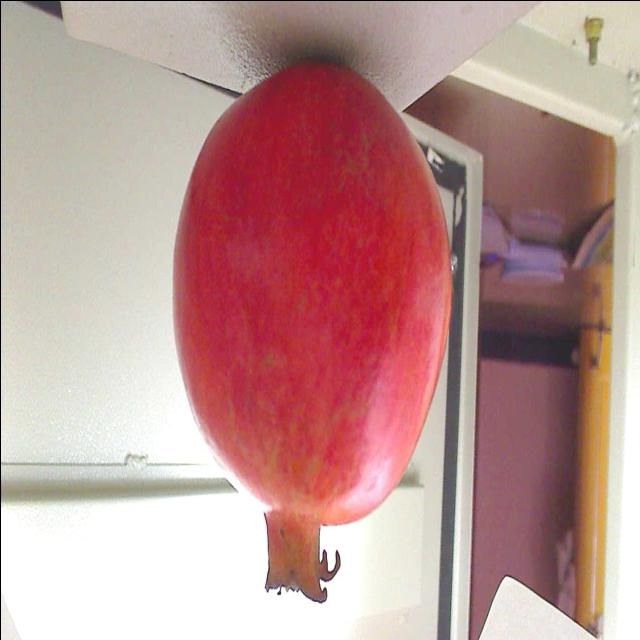pomegranate: (156, 54, 452, 620)
